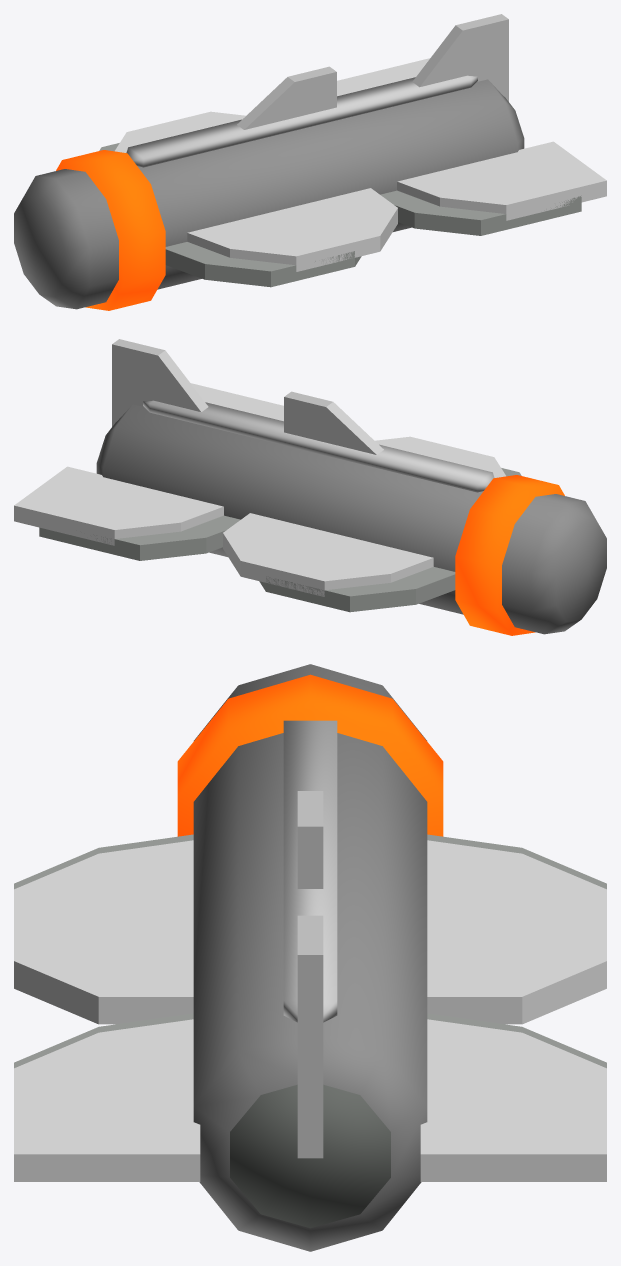
File: newsh-caret-152.glb
3 views of the same model, one above another, from view 1: azimuth 30°, elevation 25°; view 2: azimuth 150°, elevation 25°; view 3: azimuth 270°, elevation 25° (orthographic). The views are drawn at different scales.
Parts seen in each view (by area): view 1: newsh-caret-152; view 2: newsh-caret-152; view 3: newsh-caret-152.
Part boxes in pixels (x1,y1,x2,y2): newsh-caret-152: [14, 14, 606, 310]; newsh-caret-152: [14, 339, 606, 635]; newsh-caret-152: [14, 664, 606, 1251].
Size of the model in its own units: 0.9708 by 0.3574 by 0.5833.
